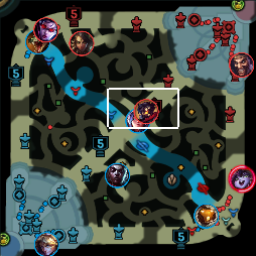bard: (194, 204, 217, 228)
draven: (229, 51, 253, 78)
ekko: (105, 162, 128, 187)
ezreal: (33, 232, 60, 256)
irelia: (124, 109, 150, 132)
lulu: (229, 166, 253, 191)
nidalee: (67, 29, 94, 56)
renekton: (25, 29, 51, 55)
vayne: (33, 16, 58, 40)
viktor: (133, 99, 158, 123)
